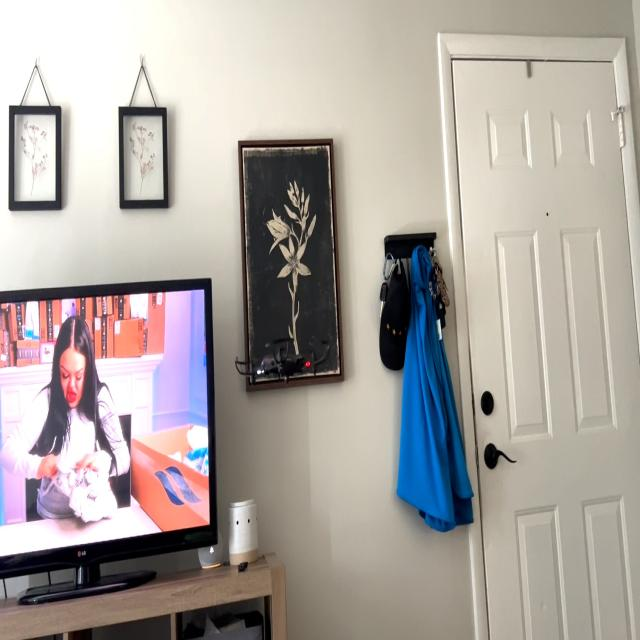drone: (229, 332, 345, 395)
